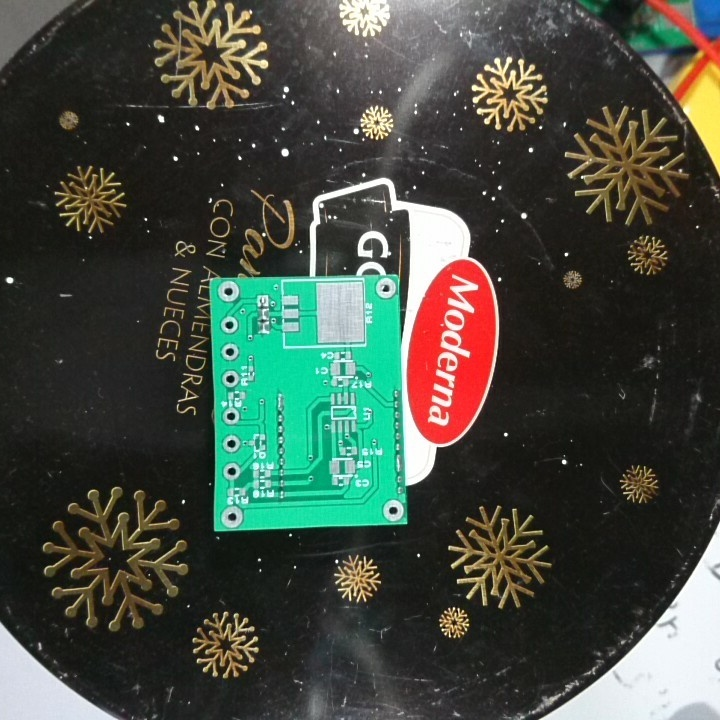F: (215, 278, 241, 306), (373, 274, 399, 302), (219, 503, 245, 529), (380, 499, 405, 523), (220, 405, 242, 428), (217, 343, 241, 364), (219, 315, 240, 338), (220, 460, 242, 481), (221, 434, 241, 455), (220, 370, 240, 389), (253, 293, 271, 309)
P: (273, 391, 287, 414), (393, 453, 405, 475)
